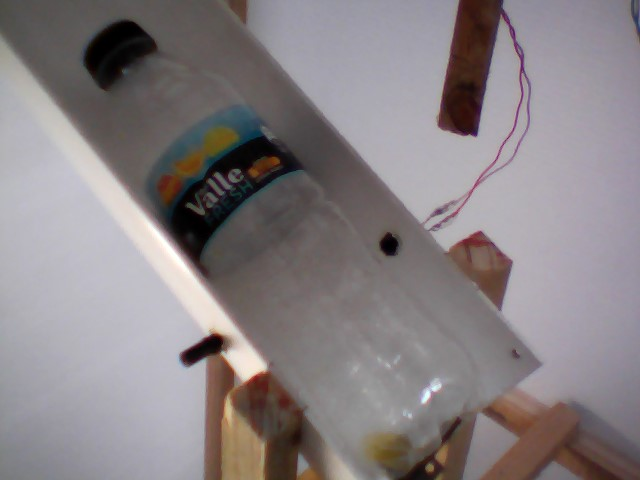plastico: (81, 7, 504, 480)
